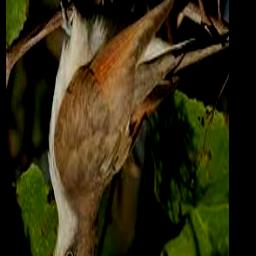Cuckoo: (38, 0, 194, 256)
